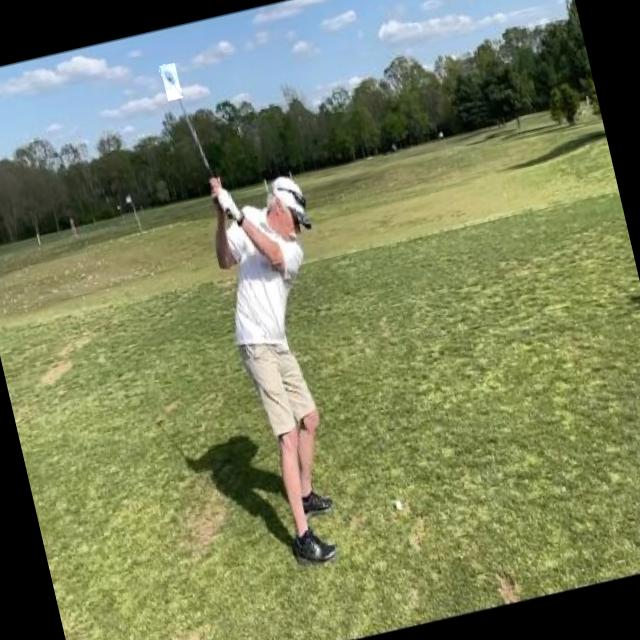club head: (160, 62, 182, 100)
